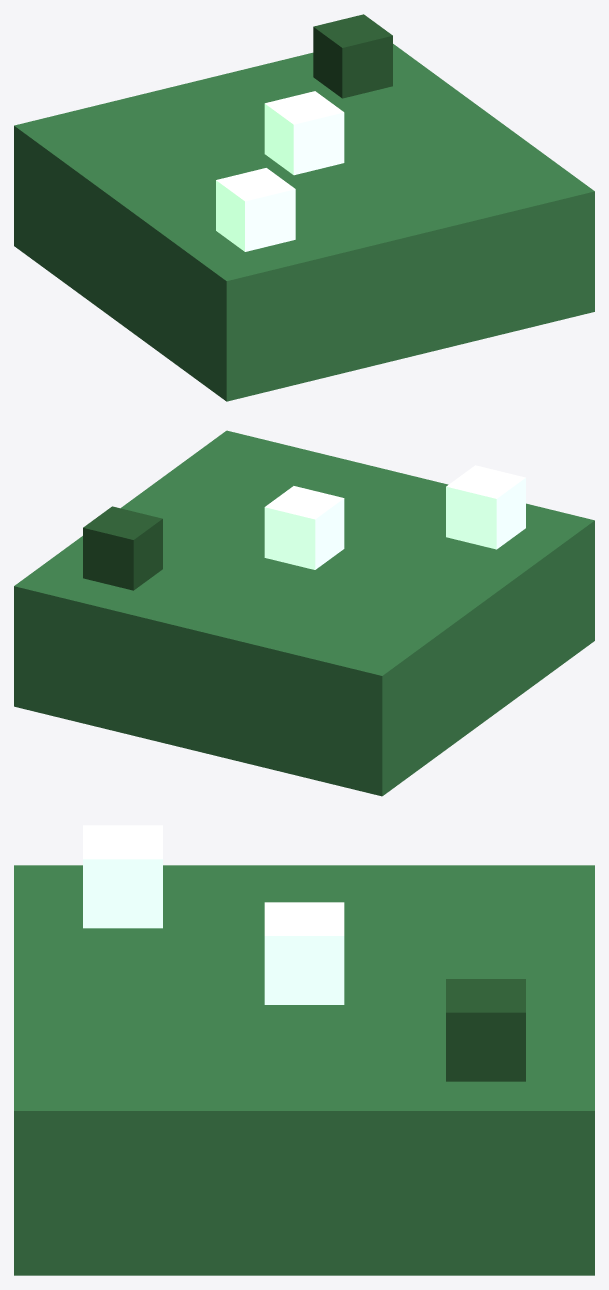
The model's file is static.glb.
The picture shows the model from 3 angles, top to bottom: view 1: azimuth 30°, elevation 25°; view 2: azimuth 150°, elevation 25°; view 3: azimuth 270°, elevation 25°; orthographic projection. The views are drawn at different scales.
Visible parts, largest first — view 1: Cube, Cube.002, Cube.003, Cube.001; view 2: Cube, Cube.002, Cube.003, Cube.001; view 3: Cube, Cube.002, Cube.001, Cube.003.
Part boxes in pixels (bbox=[...]): Cube: bbox=[14, 44, 594, 401]; Cube.002: bbox=[264, 91, 344, 175]; Cube.003: bbox=[313, 14, 392, 98]; Cube.001: bbox=[216, 168, 295, 251]; Cube: bbox=[14, 430, 594, 796]; Cube.002: bbox=[264, 486, 344, 569]; Cube.003: bbox=[83, 506, 162, 590]; Cube.001: bbox=[446, 465, 525, 549]; Cube: bbox=[14, 865, 594, 1275]; Cube.002: bbox=[264, 902, 344, 1004]; Cube.001: bbox=[83, 825, 162, 928]; Cube.003: bbox=[446, 979, 525, 1081].
Bounding box in the file's own units: 1.6 × 0.71 × 1.6.
